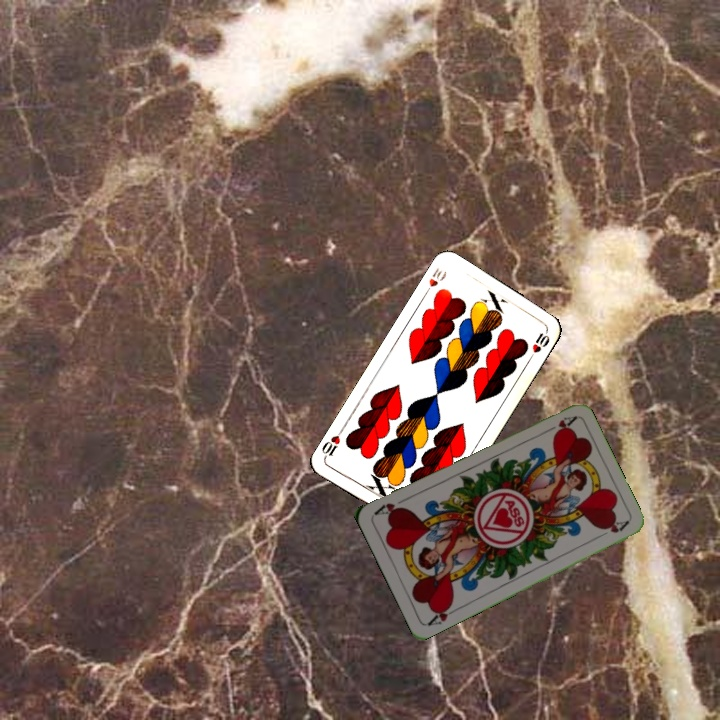H10: (419, 263, 449, 299)
HA: (423, 600, 461, 628), (539, 412, 578, 436)
